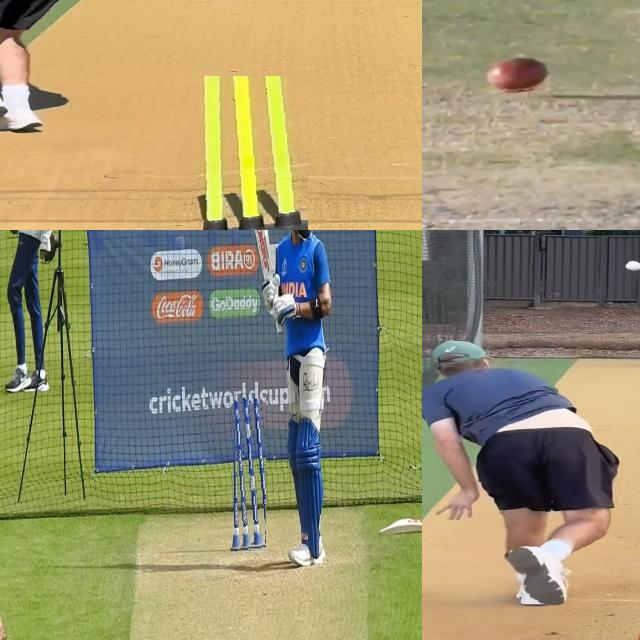Cricket ball: (481, 58, 551, 93), (621, 260, 640, 274)
Stumps: (180, 75, 308, 230), (230, 394, 266, 552)
